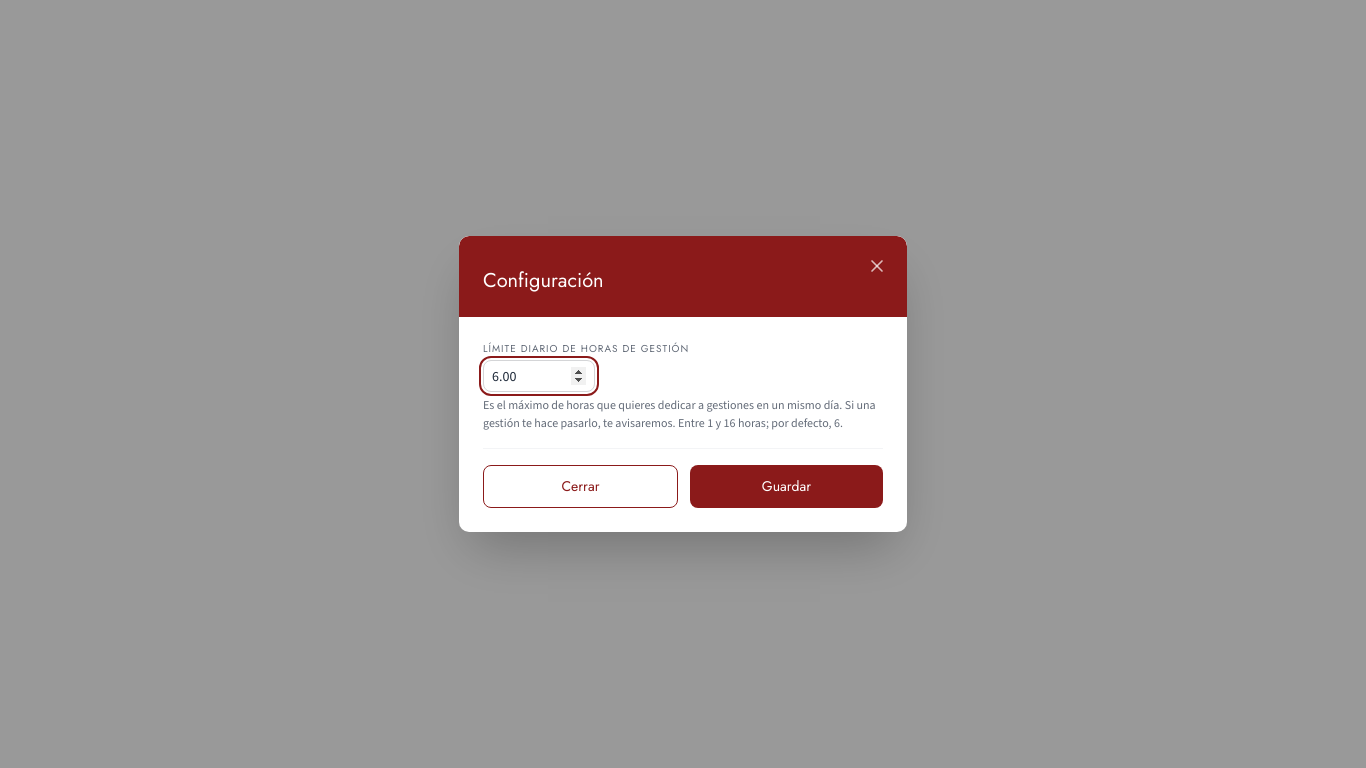
Scenario: SettingsModal › guarda un valor válido con PUT /user/settings/ y confirma el cambio
Replace the text in the number field labelled "Límite diario de horas de gestión" with "4.5" at (539, 376), box [483,360,595,392]
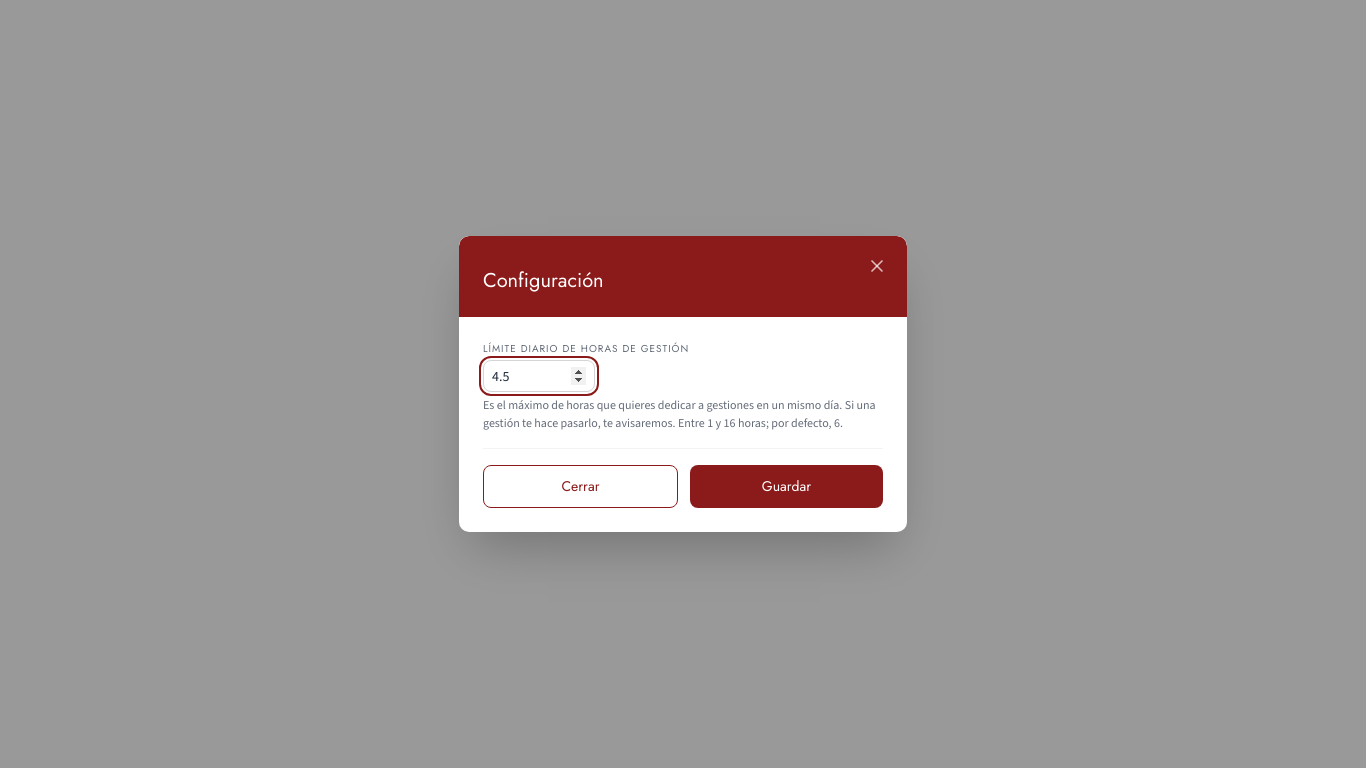
Click the button "Guardar".
click(786, 486)  # box [690,465,883,508]
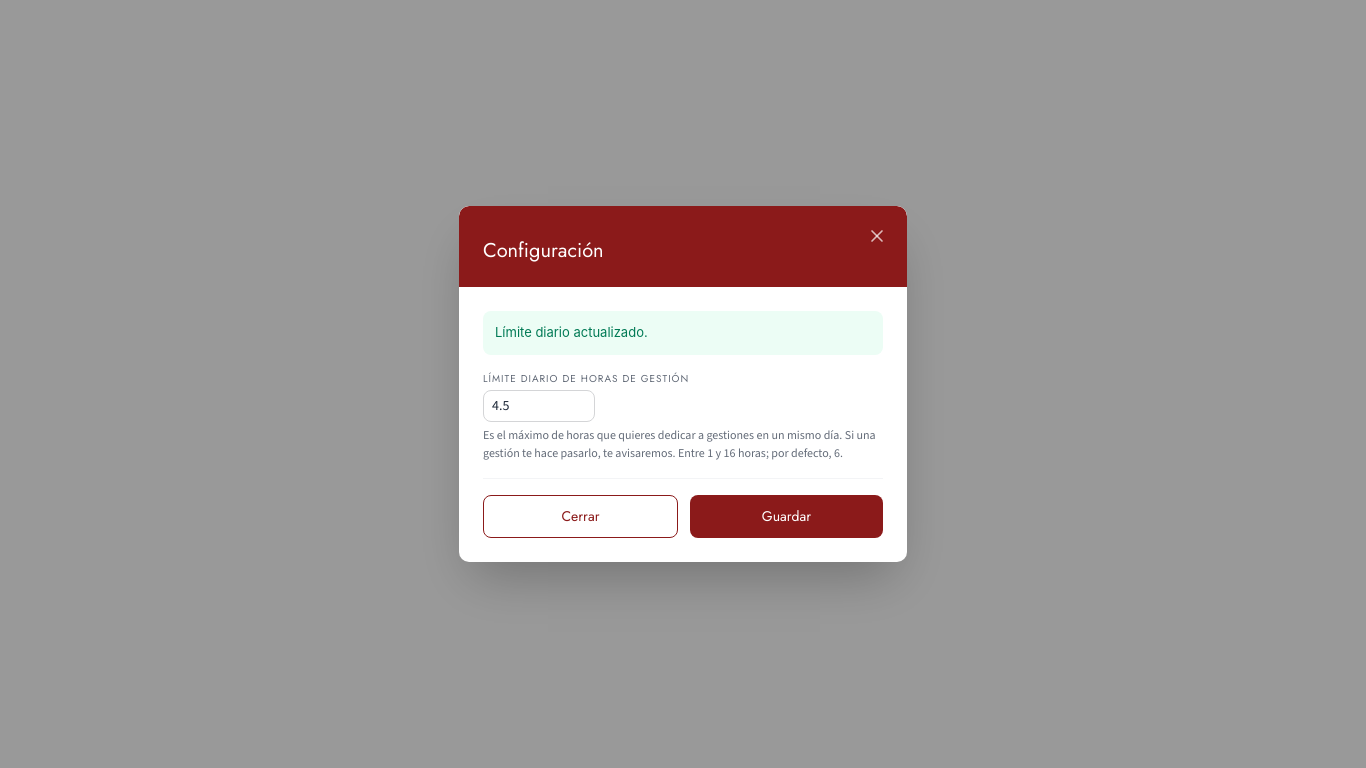
Check: the text "Límite diario actualizado." is shown, box [483,311,883,355]
